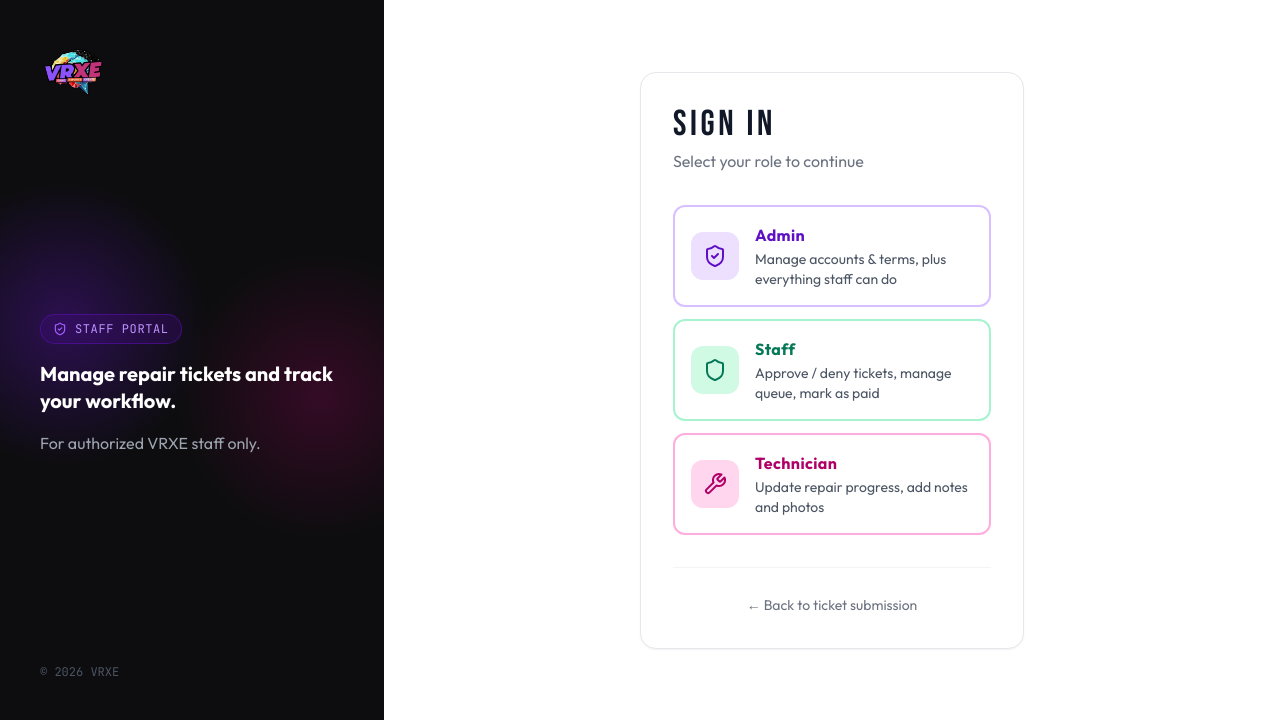
Test: LoginPage — step 2 (password) › shows incorrect password error on failed login
Click the text "Admin": (780, 234) top-left (755, 224), bottom-right (805, 244)
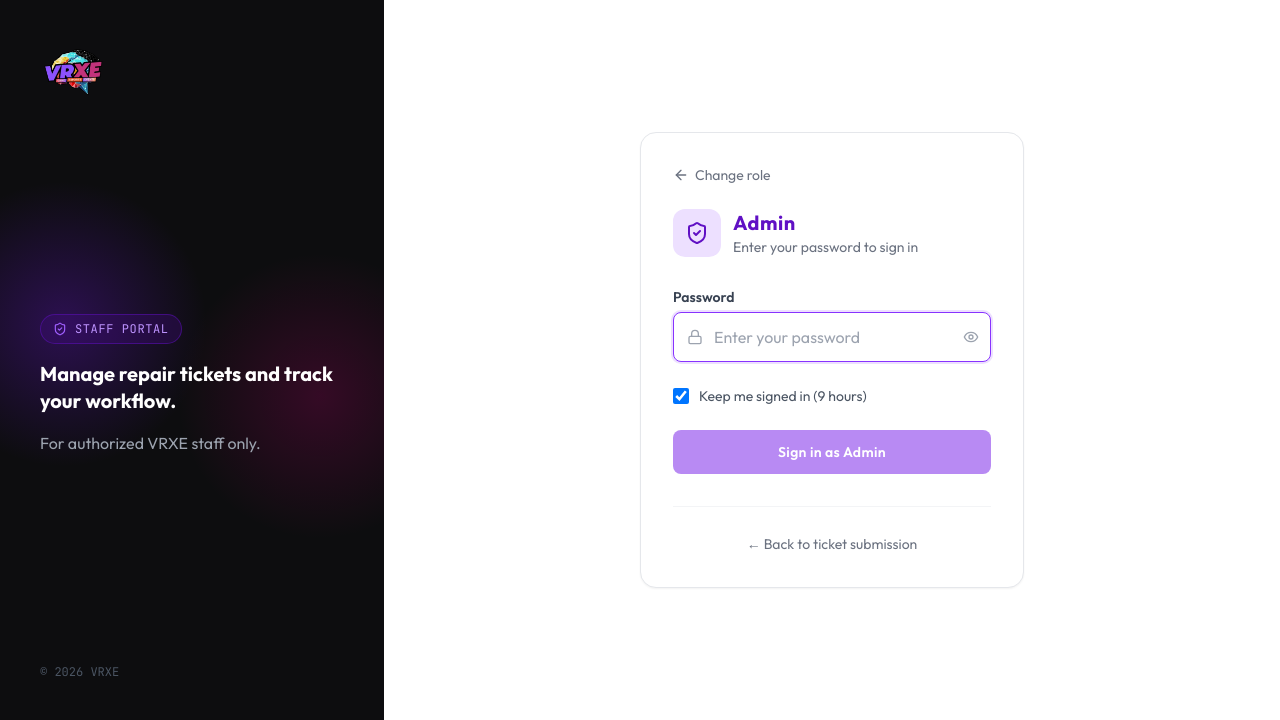
In the password field with placeholder "Enter your password": (832, 337) top-left (673, 312), bottom-right (991, 362), type "wrong"
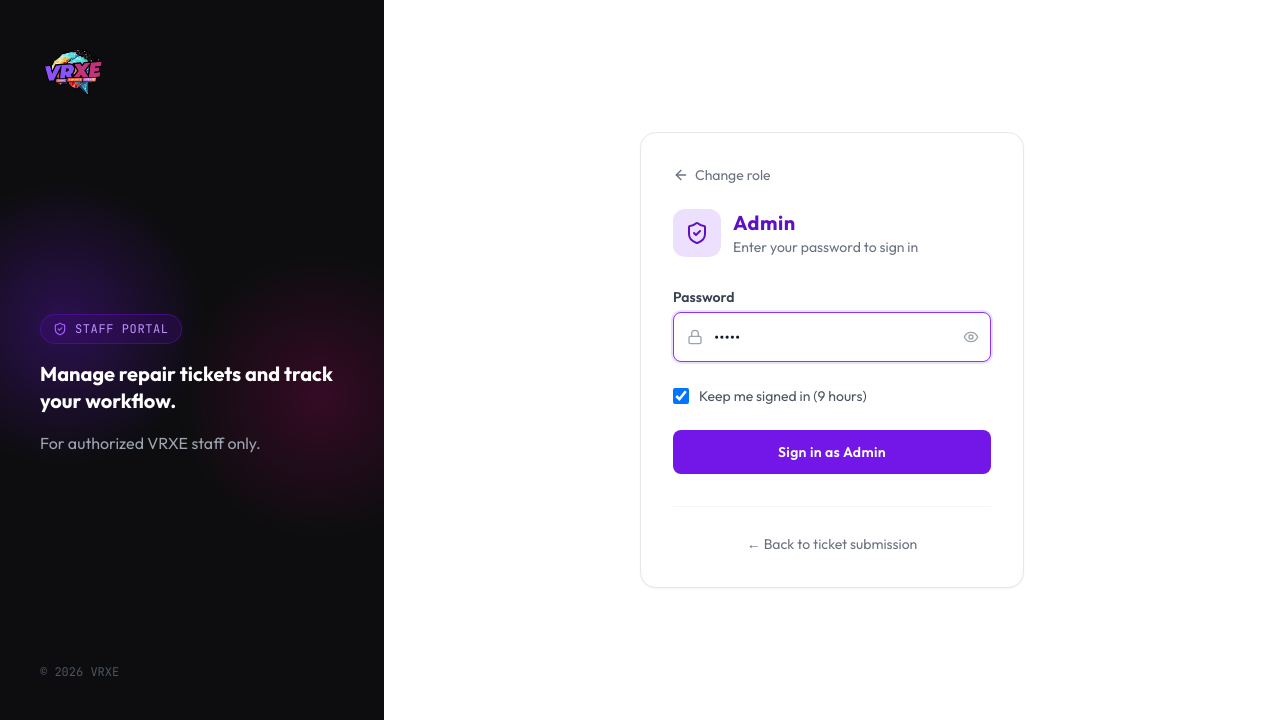
Click the button "Sign in as Admin": (832, 452) top-left (673, 430), bottom-right (991, 474)
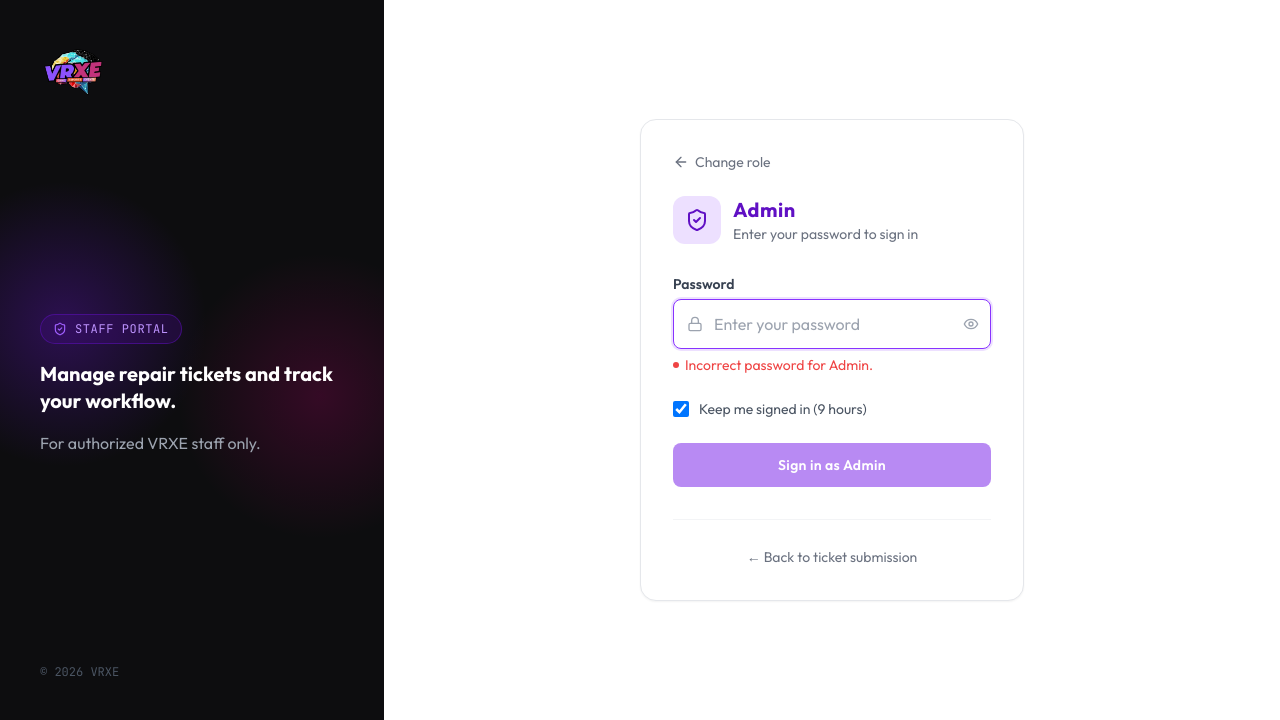
Result: the text "Incorrect password for Admin." is shown at top-left (673, 356), bottom-right (873, 374)
